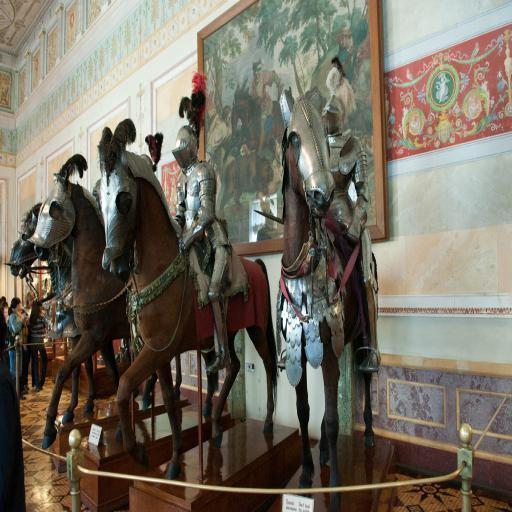horse: (108, 160, 280, 484), (34, 176, 182, 450), (280, 135, 378, 512), (9, 201, 159, 426)
